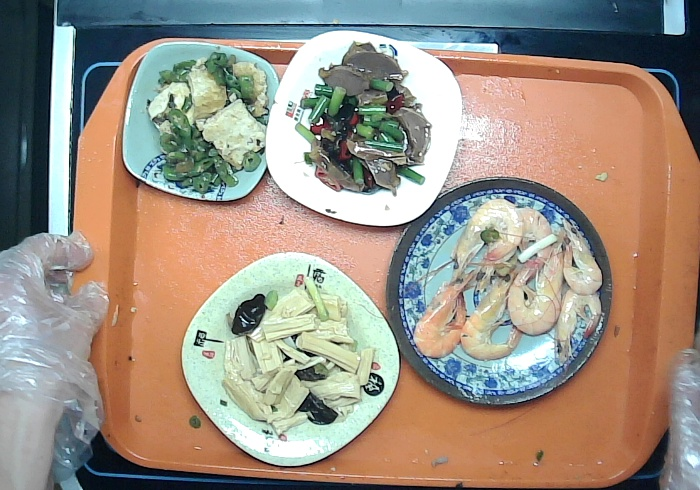NLDX-Bai_Se_Xiao_Fang_Die: (264, 27, 468, 233)
NLDX-Fu_Zi_Fang_Die: (174, 249, 402, 470)
NLDX-Qing_Hua_Xiao_Fang_Die: (116, 33, 285, 206)
NLDX-Qing_Hua_Yuan_Die: (380, 171, 616, 411)
